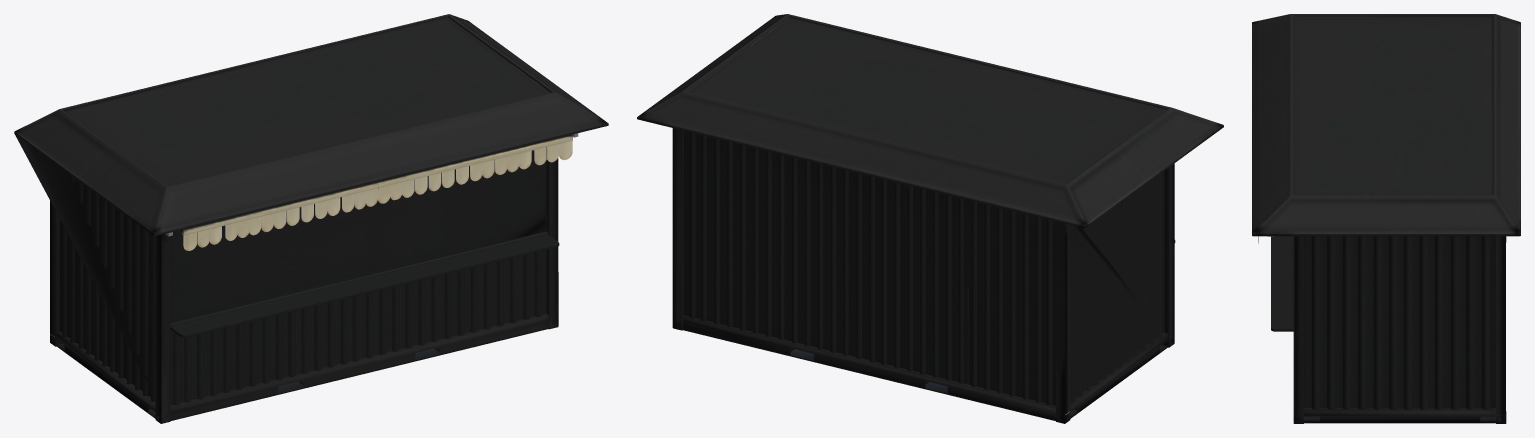
File: firewoodstorage3dmodel.glb
The picture shows the model from 3 angles, left to right: view 1: azimuth 30°, elevation 25°; view 2: azimuth 150°, elevation 25°; view 3: azimuth 270°, elevation 25°; orthographic projection. The views are drawn at different scales.
Visible parts, largest first — view 1: tripo_node_d6e70764-1652-4238-9885-d60d60c8c78c; view 2: tripo_node_d6e70764-1652-4238-9885-d60d60c8c78c; view 3: tripo_node_d6e70764-1652-4238-9885-d60d60c8c78c.
Part boxes in pixels (x1,y1,x2,y2): tripo_node_d6e70764-1652-4238-9885-d60d60c8c78c: (14, 14, 608, 423); tripo_node_d6e70764-1652-4238-9885-d60d60c8c78c: (637, 14, 1223, 423); tripo_node_d6e70764-1652-4238-9885-d60d60c8c78c: (1252, 14, 1520, 423).
Bounding box in the file's own units: 0.9995 × 0.4985 × 0.5356.
Materials: 1 (1 with a texture image).
